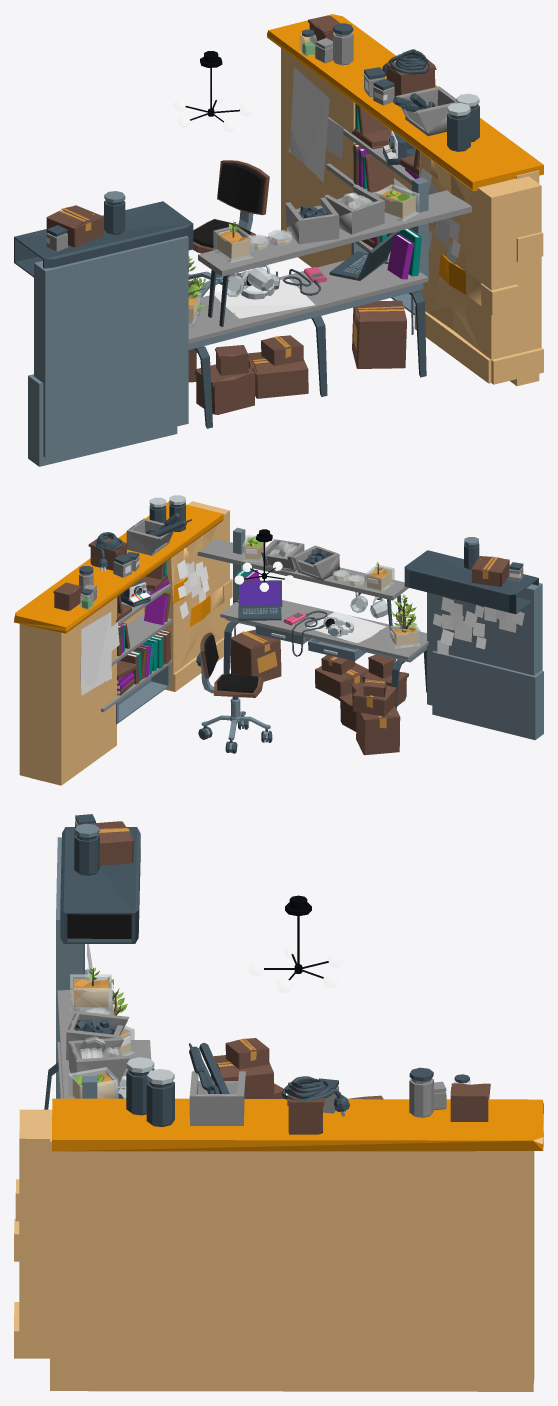
The model's file is room 1.glb.
The picture shows the model from 3 angles, top to bottom: view 1: azimuth 30°, elevation 25°; view 2: azimuth 150°, elevation 25°; view 3: azimuth 270°, elevation 25°; orthographic projection. The views are drawn at different scales.
Visible parts, largest first — view 1: wall 1, group259666405, group337026695, wall 3, wall 2, group2022069560, group92703077, group475958137, group1854588575, group80340542, group1807314114, group1443709309.001 (+28 smaller); view 2: wall 2, group1807314114, group259666405, wall 1, group337026695, group2022069560, wall 3, group92703077, group475958137, group1854588575, group1763104299, group475958137.001 (+40 smaller); view 3: group1763104299, group337026695, group259666405, group2022069560, group722914409, boxes, group1203974772, wall 1, CeilingLamp2, group80423347, group1018027720, group1443709309 (+9 smaller).
Boxes of the visible parts, box(x1,y1,x2,y2) form: wall 1: box(34, 236, 188, 457); group259666405: box(414, 151, 543, 384); group337026695: box(267, 14, 543, 191); wall 3: box(188, 251, 428, 349); wall 2: box(281, 48, 355, 267); group2022069560: box(14, 201, 193, 277); group92703077: box(198, 190, 471, 276); group475958137: box(352, 300, 406, 368); group1854588575: box(288, 67, 329, 182); group80340542: box(248, 335, 308, 398); group1807314114: box(28, 374, 177, 466); group1443709309.001: box(194, 364, 254, 414); wall 2: box(30, 597, 116, 785); group1807314114: box(432, 651, 543, 739); group259666405: box(144, 501, 232, 691); wall 1: box(427, 583, 542, 705); group337026695: box(14, 501, 223, 633); group2022069560: box(404, 550, 538, 614); wall 3: box(220, 600, 428, 662); group92703077: box(197, 538, 408, 600); group475958137: box(230, 629, 281, 681); group1854588575: box(80, 612, 111, 695); group1763104299: box(19, 607, 144, 777); group475958137.001: box(356, 705, 400, 755); group1763104299: box(50, 1128, 533, 1391); group337026695: box(52, 1098, 543, 1151); group259666405: box(14, 1109, 52, 1358); group2022069560: box(60, 827, 140, 943); group722914409: box(189, 1043, 245, 1125); boxes: box(211, 1038, 274, 1098); group1203974772: box(68, 1036, 130, 1086); wall 1: box(56, 837, 84, 1098); CeilingLamp2: box(249, 895, 342, 993); group80423347: box(70, 967, 112, 1011); group1018027720: box(146, 1069, 174, 1127); group1443709309: box(450, 1083, 490, 1121).
Size of the model in its own units: 2.03 by 1.18 by 1.57.
